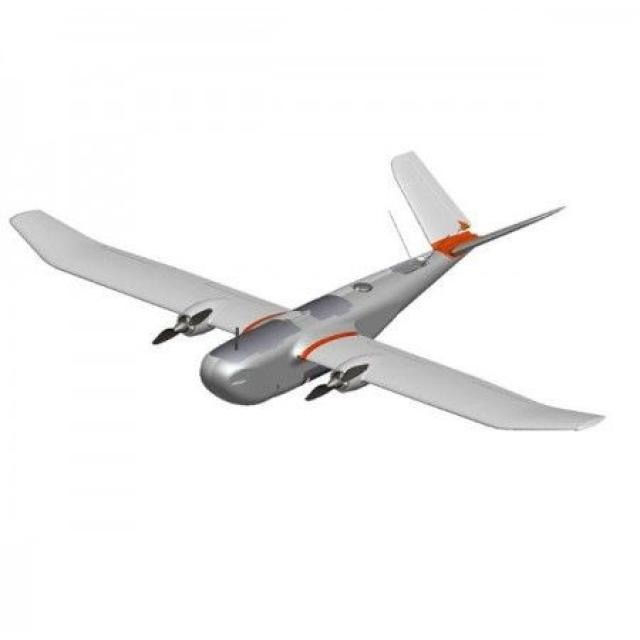iha: (6, 146, 612, 439)
